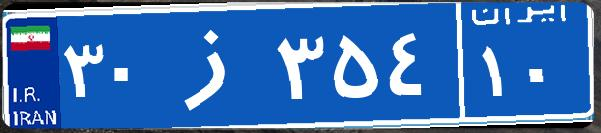0: (110, 28, 158, 105), (525, 38, 570, 115)
1: (475, 38, 525, 113)
3: (273, 28, 330, 110), (57, 26, 110, 107)
4: (385, 28, 445, 110)
5: (330, 28, 385, 110)
ز: (158, 15, 273, 115)
